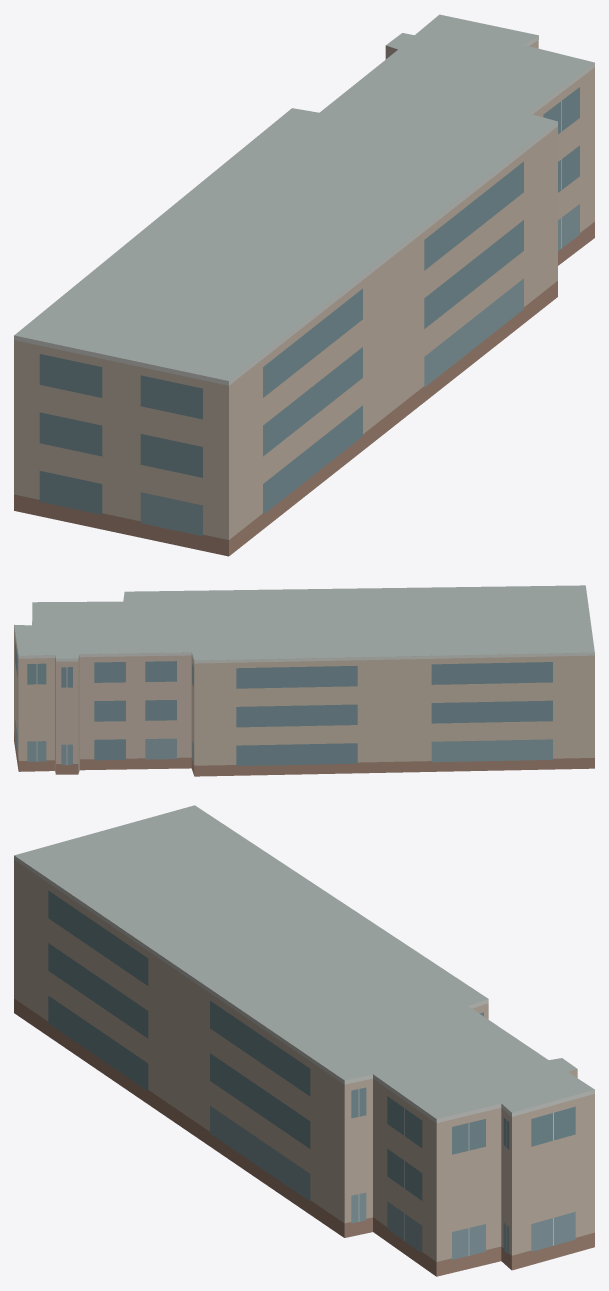
Rendered from survey-upis-32525706.glb.
The picture shows the model from 3 angles, top to bottom: view 1: azimuth 30°, elevation 25°; view 2: azimuth 150°, elevation 25°; view 3: azimuth 270°, elevation 25°; orthographic projection. The views are drawn at different scales.
Visible parts, largest first — view 1: survey-upis-32525706.tmp; view 2: survey-upis-32525706.tmp; view 3: survey-upis-32525706.tmp.
Boxes of the visible parts, box(x1,y1,x2,y2) form: survey-upis-32525706.tmp: box(14, 14, 594, 556); survey-upis-32525706.tmp: box(14, 585, 594, 776); survey-upis-32525706.tmp: box(14, 805, 594, 1276).
Bounding box in the file's own units: 39.07 × 9.15 × 30.56.
